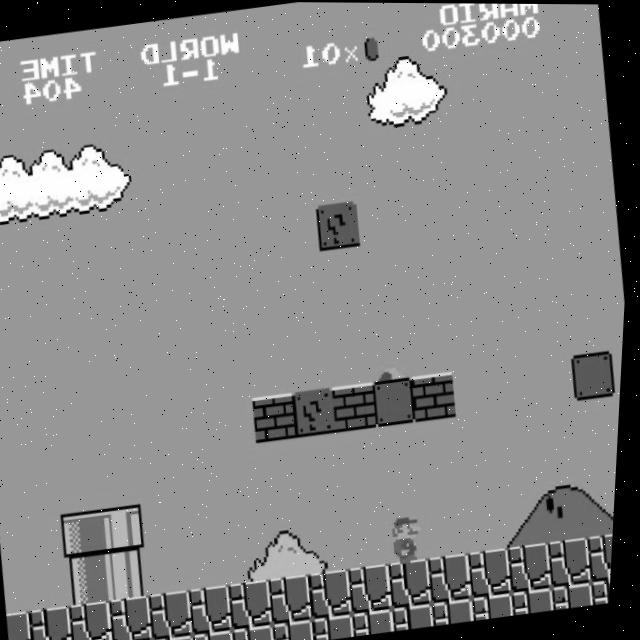1- brick_block: (413, 371, 463, 422), (334, 381, 383, 432), (254, 392, 303, 443)
11- little_mario: (388, 511, 439, 566)
12- mushroom: (374, 361, 420, 385)
13- mystery_block: (316, 200, 365, 251), (294, 387, 343, 438)
14- pipe: (108, 549, 157, 601), (68, 555, 117, 606)
15- pipe_head: (104, 504, 153, 555), (64, 510, 113, 561)
17- undestructible_block: (152, 589, 202, 640), (471, 546, 520, 598), (392, 557, 441, 609), (272, 573, 321, 625), (551, 536, 600, 587), (511, 541, 560, 592), (432, 552, 481, 603), (352, 563, 401, 614), (312, 568, 361, 619), (232, 579, 281, 630), (193, 584, 242, 635), (113, 595, 162, 640), (73, 600, 122, 640), (34, 605, 82, 640), (590, 531, 619, 582), (397, 602, 442, 631), (556, 581, 601, 609), (517, 587, 562, 615), (477, 592, 522, 620), (437, 597, 482, 625), (357, 608, 402, 636), (317, 613, 363, 640), (278, 618, 323, 640), (12, 610, 41, 640), (238, 624, 283, 640), (596, 576, 617, 604), (198, 629, 242, 640), (159, 634, 203, 640)
3- empty_block: (573, 349, 622, 401), (374, 376, 423, 427)
